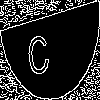C: (25, 25, 51, 78)
